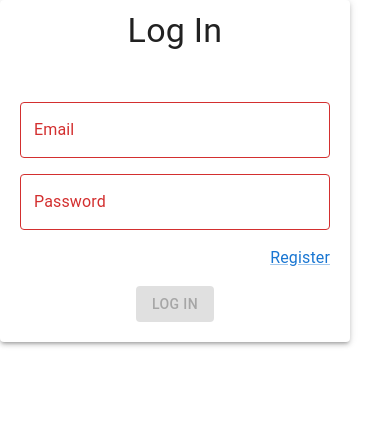
Test: The LoginLayout component › must display an error if the login failed
The width and height of the screenshot is (370, 429).
Expected: the heading named "login-layout-title" is shown, [128,10,222,50]
Type "test@test.com" into the field at {"x": 175, "y": 130}, box [20,102,330,158]
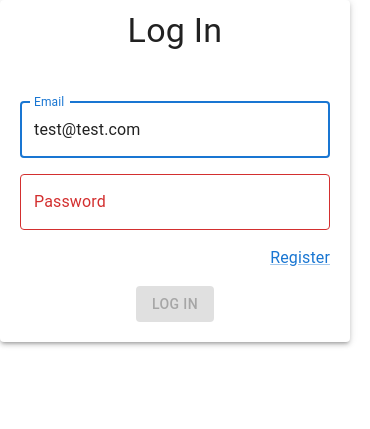
Type "password" into the password field named "native-input-password" at {"x": 175, "y": 202}, box [20,174,330,230]
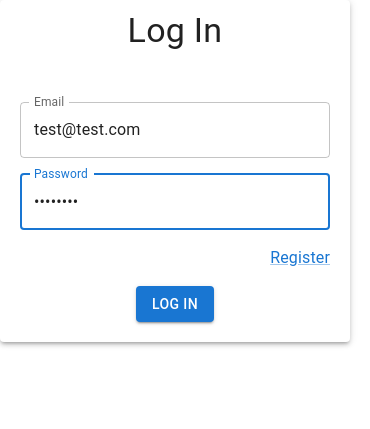
Expected: the button with aria-label "btn-login" is enabled
Click the button with aria-label "btn-login" at {"x": 175, "y": 304}, box [136,286,214,322]
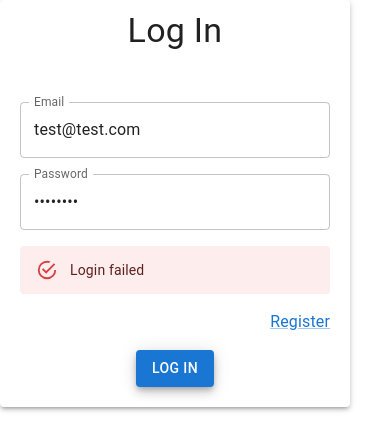
Expected: the message "Login failed" is shown, [20,246,330,294]
Expected: the message with test id "login-error" reads "Login failed", [70,262,144,278]
